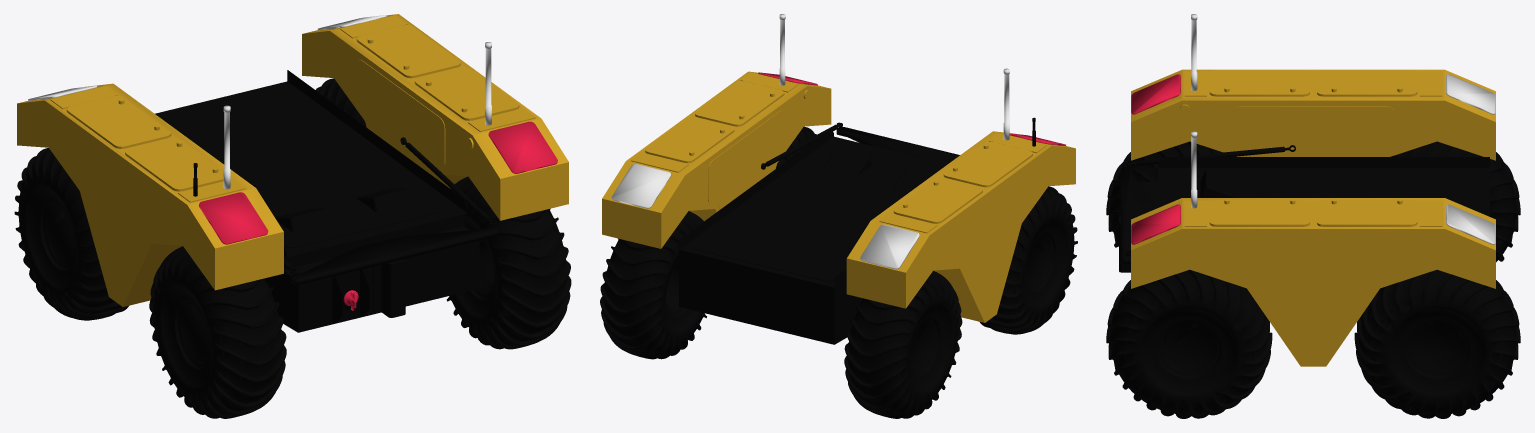
The model's file is warthog.glb.
3 views of the same model, side by side, from view 1: azimuth 30°, elevation 25°; view 2: azimuth 150°, elevation 25°; view 3: azimuth 270°, elevation 25° (orthographic). The views are drawn at different scales.
Visible parts, largest first — view 1: fenders, wheel.001, chassis, Rear Headlight, diff-link, antenna_left, susp-link, Front Headlight; view 2: fenders, chassis, wheel.001, Front Headlight, diff-link, antenna_left, susp-link; view 3: fenders, wheel.001, chassis, Front Headlight, Rear Headlight, diff-link, antenna_left, susp-link.
Part boxes in pixels (bbox=[...]): fenders: bbox=[17, 14, 568, 306]; wheel.001: bbox=[14, 78, 571, 418]; chassis: bbox=[155, 70, 479, 332]; Rear Headlight: bbox=[199, 121, 557, 244]; diff-link: bbox=[290, 226, 497, 284]; antenna_left: bbox=[223, 42, 491, 189]; susp-link: bbox=[284, 137, 495, 274]; Front Headlight: bbox=[28, 15, 386, 100]; fenders: bbox=[602, 71, 1075, 322]; chassis: bbox=[679, 129, 947, 344]; wheel.001: bbox=[600, 126, 1077, 418]; Front Headlight: bbox=[611, 164, 919, 269]; diff-link: bbox=[836, 127, 959, 164]; antenna_left: bbox=[779, 14, 1009, 140]; susp-link: bbox=[761, 122, 842, 169]; fenders: bbox=[1131, 69, 1495, 366]; wheel.001: bbox=[1106, 141, 1520, 418]; chassis: bbox=[1119, 157, 1489, 315]; Front Headlight: bbox=[1446, 74, 1495, 244]; Rear Headlight: bbox=[1131, 74, 1180, 244]; diff-link: bbox=[1120, 167, 1154, 264]; antenna_left: bbox=[1191, 14, 1197, 208]; susp-link: bbox=[1125, 145, 1295, 255].
Size of the model in its own units: 1.38 by 1.11 by 1.52.
